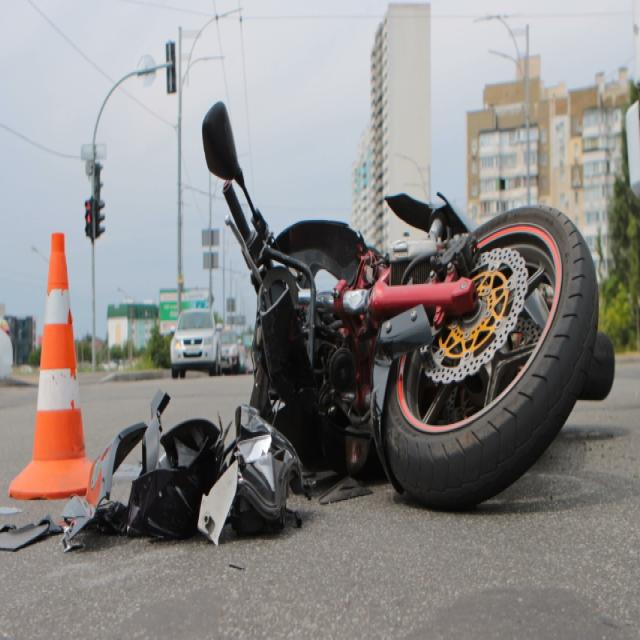accident: (62, 102, 614, 550)
